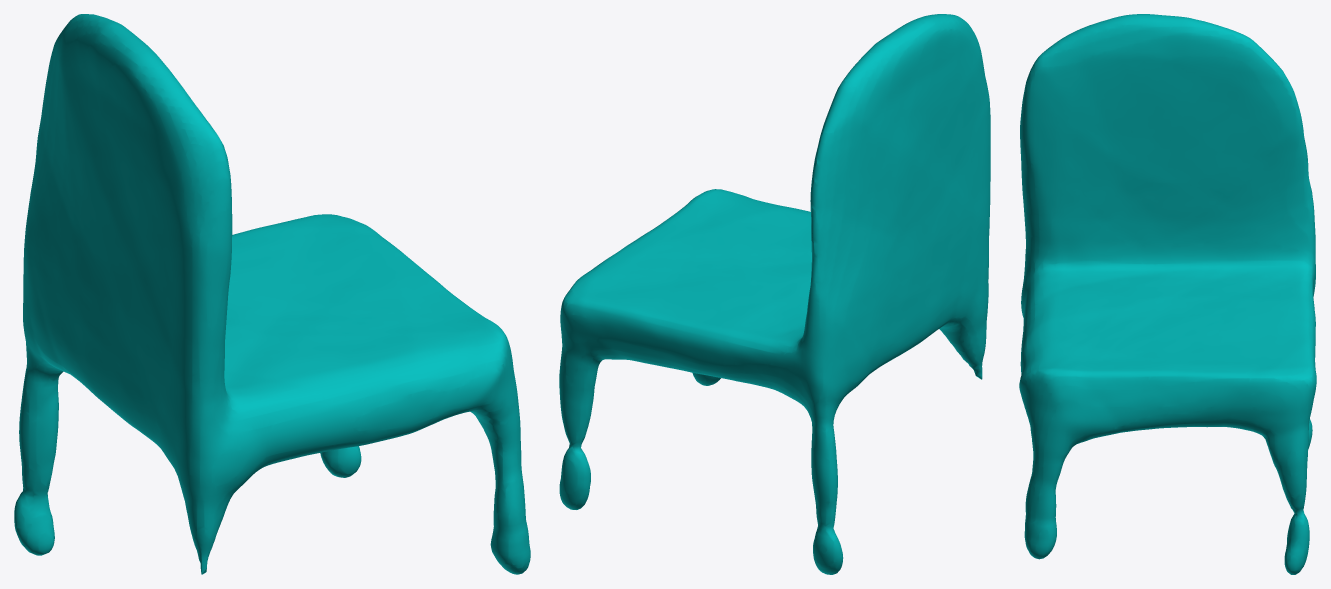
The picture shows the model from 3 angles, left to right: view 1: azimuth 30°, elevation 25°; view 2: azimuth 150°, elevation 25°; view 3: azimuth 270°, elevation 25°; orthographic projection. The views are drawn at different scales.
Size of the model in its own units: 0.6342 by 1.01 by 0.6135.
